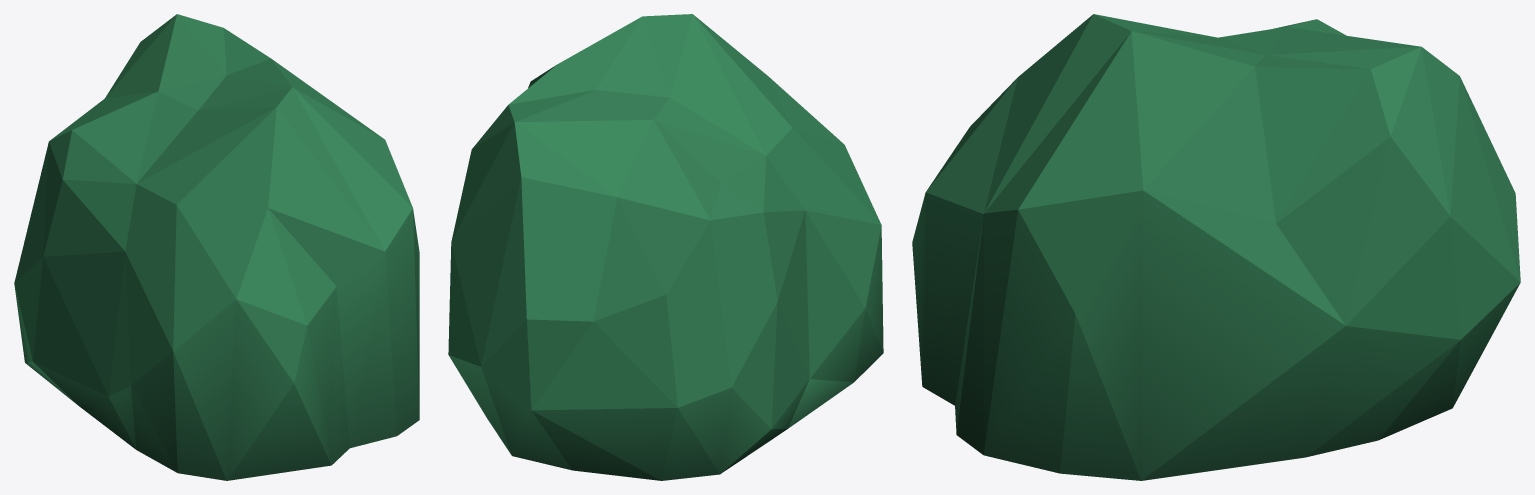
The model's file is bush_wall_1.fbx.
3 renders of one model, left to right at view 1: azimuth 30°, elevation 25°; view 2: azimuth 150°, elevation 25°; view 3: azimuth 270°, elevation 25°, orthographic. The views are drawn at different scales.
Visible parts, largest first — view 1: bush_wall_1; view 2: bush_wall_1; view 3: bush_wall_1.
Boxes of the visible parts, left/top/right/bottom form: bush_wall_1: left=14, top=14, right=419, bottom=480; bush_wall_1: left=448, top=14, right=883, bottom=480; bush_wall_1: left=912, top=14, right=1520, bottom=480.
Size of the model in its own units: 1.19 by 1.68 by 1.17.
